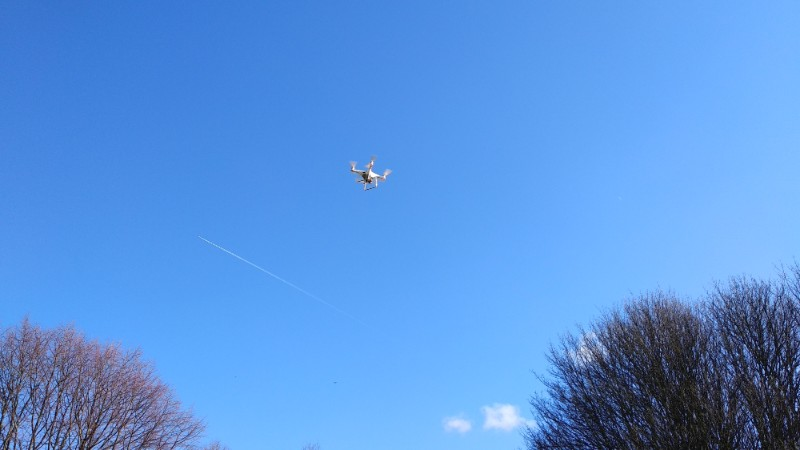drone: (346, 155, 394, 192)
